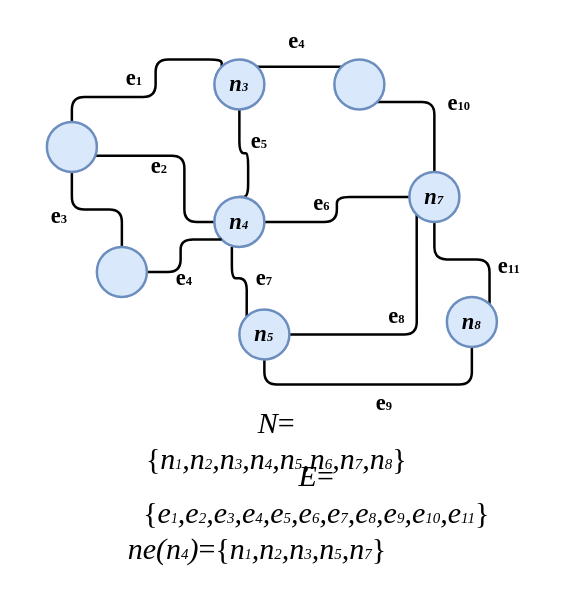
Some shapes in this 568 by 605 pixel diagram are drawn without their labels. The centre of each missing label's shape, as x and y in pixels:
"n 1" belongs at pixel 71 146.
"n 2" belongs at pixel 121 271.
"n 6" belongs at pixel 358 84.
